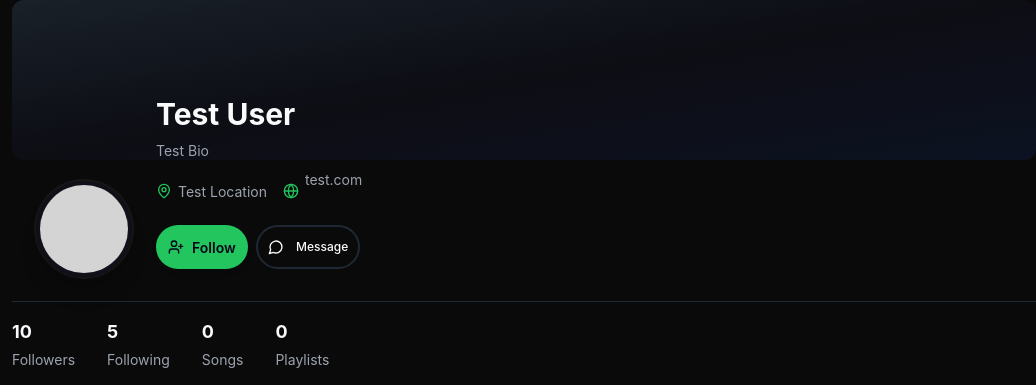
Test: ProfileHeader › handles follow toggle
Step 1. Click the button "Follow" → (202,247), box x1=156 y1=225 x2=248 y2=269
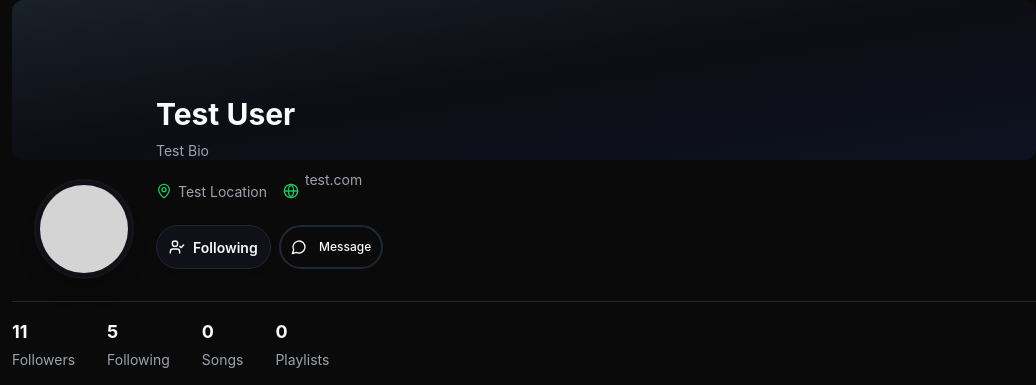
Expected: the text "Following" is shown, x1=107 y1=351 x2=170 y2=368
Expected: the text "11" is shown, x1=12 y1=321 x2=28 y2=342
